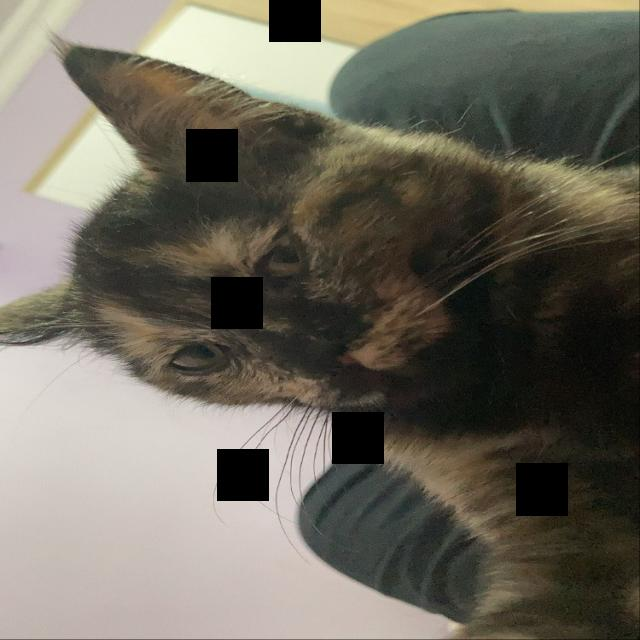authorized: (2, 29, 637, 638)
